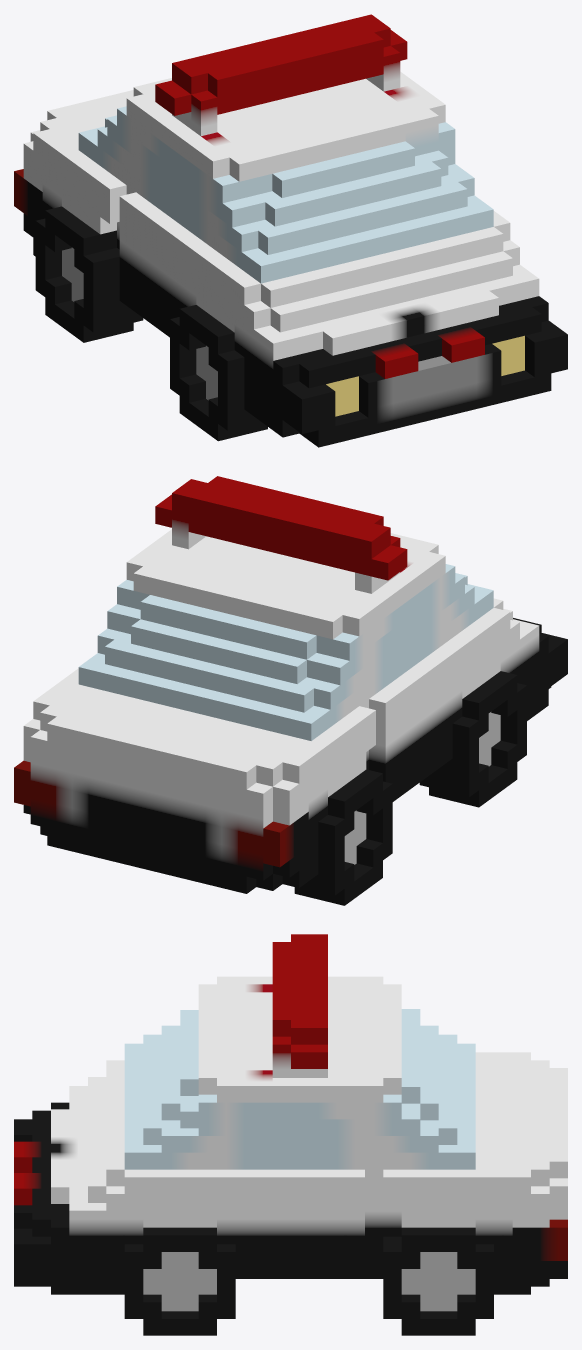
Rendered from PoliceCar.dae.
The picture shows the model from 3 angles, top to bottom: view 1: azimuth 30°, elevation 25°; view 2: azimuth 150°, elevation 25°; view 3: azimuth 270°, elevation 25°; orthographic projection. The views are drawn at different scales.
Visible parts, largest first — view 1: Matrix; view 2: Matrix; view 3: Matrix.
Boxes of the visible parts, <box> form: Matrix: <box>14,14,567,447</box>; Matrix: <box>14,476,567,905</box>; Matrix: <box>14,934,567,1335</box>.
Size of the model in its own units: 18 by 17 by 30.
